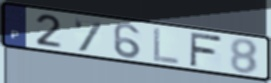2: (34, 13, 64, 49)
6: (112, 21, 143, 60)
7: (72, 15, 105, 53)
8: (228, 37, 262, 76)
F: (188, 31, 224, 68)
L: (152, 26, 182, 66)
